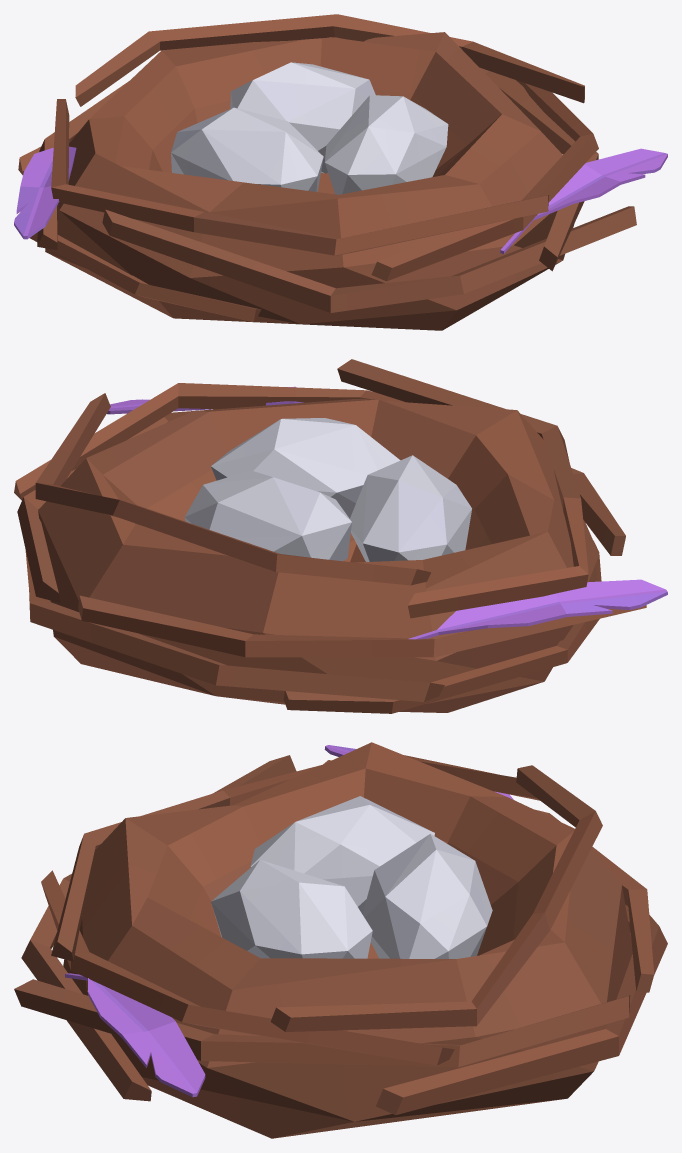
Rendered from nest.glb.
3 views of the same model, one above another, from view 1: azimuth 30°, elevation 25°; view 2: azimuth 150°, elevation 25°; view 3: azimuth 270°, elevation 25° (orthographic). The views are drawn at different scales.
Parts seen in each view (by area): view 1: Object_4; view 2: Object_4; view 3: Object_4.
Boxes of the visible parts, x1=… form: Object_4: x1=14, y1=14, x2=667, y2=330; Object_4: x1=14, y1=359, x2=667, y2=713; Object_4: x1=14, y1=742, x2=667, y2=1138.
Size of the model in its own units: 2.32 by 0.695 by 1.95.
Materials: 1 (1 with a texture image).
